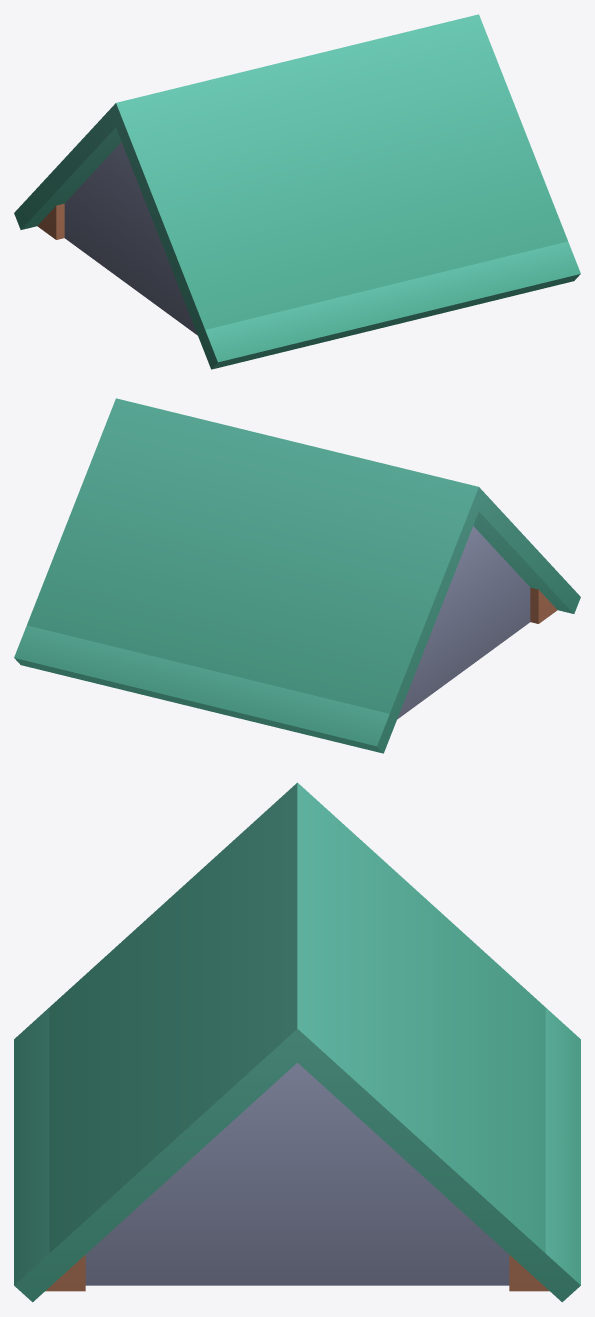
The model's file is roof-gable.obj.
3 renders of one model, top to bottom at view 1: azimuth 30°, elevation 25°; view 2: azimuth 150°, elevation 25°; view 3: azimuth 270°, elevation 25°, orthographic. The views are drawn at different scales.
Parts seen in each view (by area): view 1: roof-gable; view 2: roof-gable; view 3: roof-gable.
Boxes of the visible parts, left/top/right/bottom form: roof-gable: left=14, top=14, right=580, bottom=369; roof-gable: left=14, top=398, right=580, bottom=753; roof-gable: left=14, top=782, right=580, bottom=1302.
Size of the model in its own units: 1.1 by 0.5707 by 1.07.
Materials: 1 (1 with a texture image).
